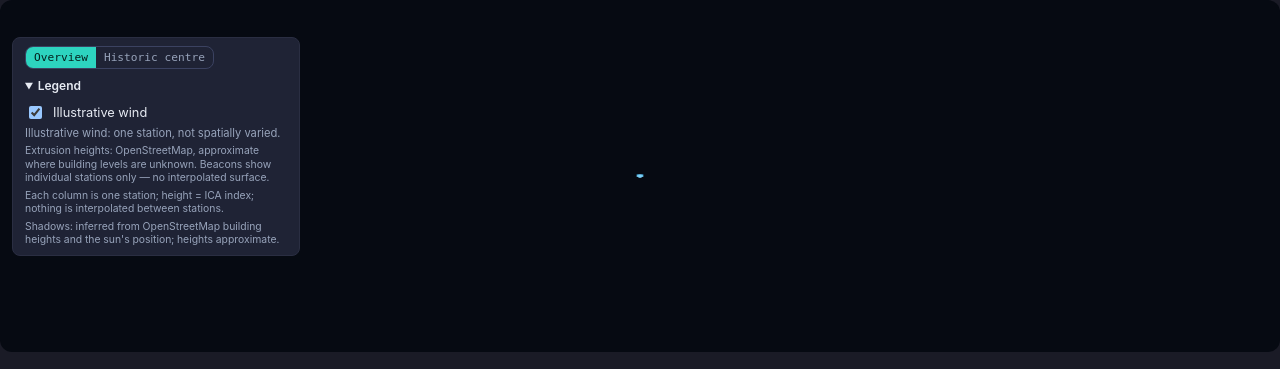
Scenario: MapView (issue 119: MapLibre dark 3D map + beacons) › keeps the caption visible even after the wind layer is switched off
Click the checkbox: (36, 112) [29,106,42,119]
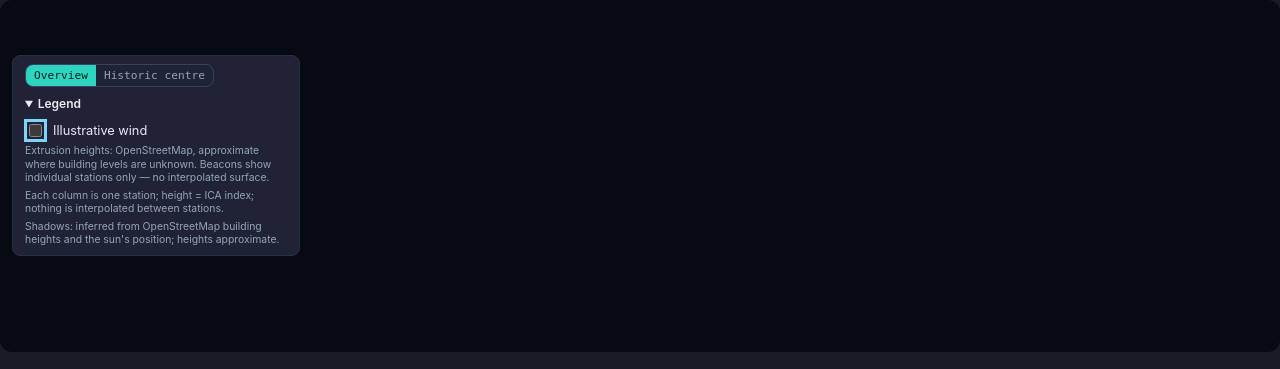
Expected: the text "no interpolated surface" is shown, [25,144,271,184]
Expected: the text "Illustrative wind: " is gone
